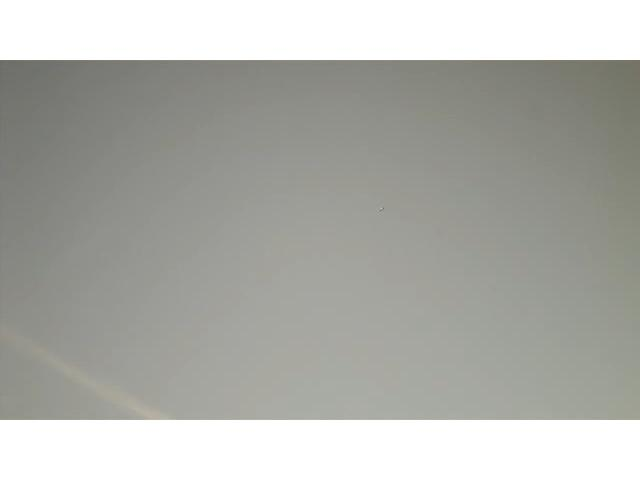Anti-Drone: (372, 205, 388, 215)
